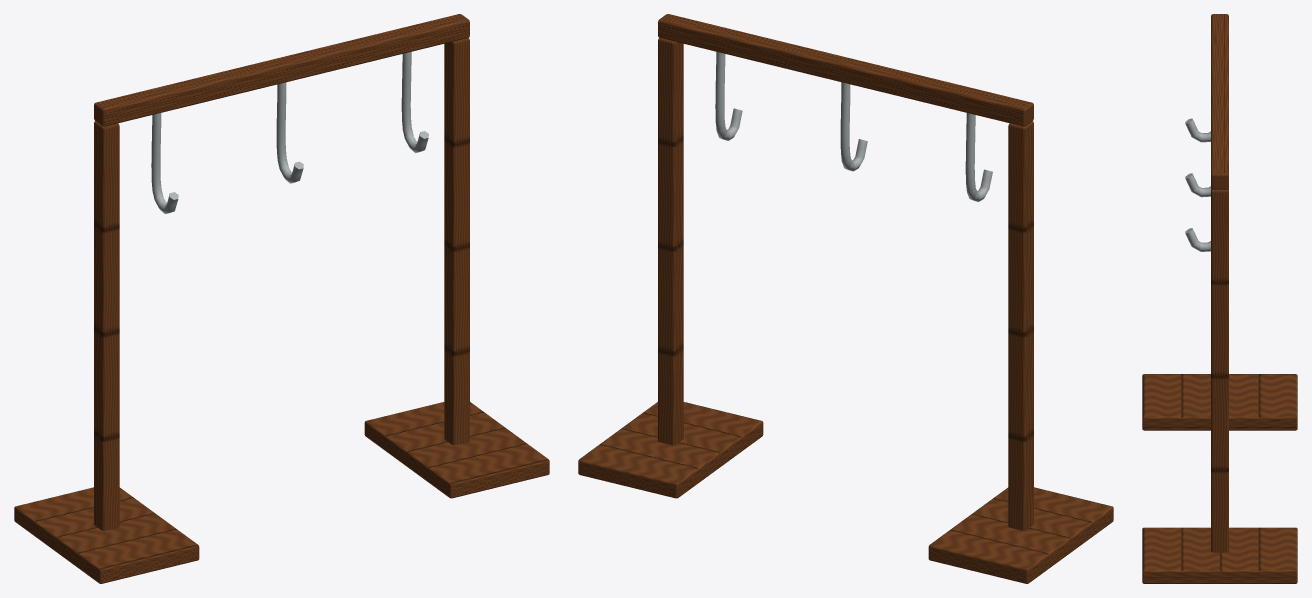
Rendered from wilderness-survival-camp-hanging-gear-rail-f212d292__21966.glb.
3 views of the same model, side by side, from view 1: azimuth 30°, elevation 25°; view 2: azimuth 150°, elevation 25°; view 3: azimuth 270°, elevation 25° (orthographic). The views are drawn at different scales.
Visible parts, largest first — view 1: hanging-gear-rail; view 2: hanging-gear-rail; view 3: hanging-gear-rail.
Boxes of the visible parts, box(x1,y1,x2,y2) form: hanging-gear-rail: box(14, 14, 549, 583); hanging-gear-rail: box(578, 14, 1113, 583); hanging-gear-rail: box(1142, 14, 1297, 583).
Size of the model in its own units: 1.8 by 1.67 by 0.5999.
2 materials, 1 textured.
